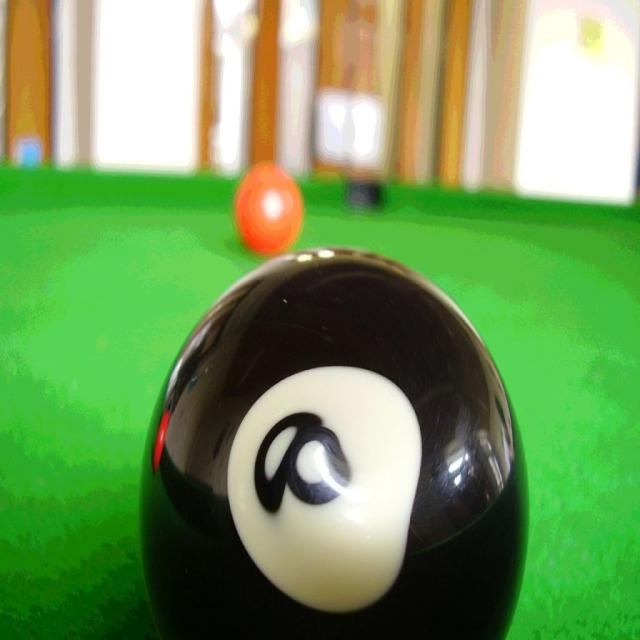Ball: (138, 245, 530, 640)
